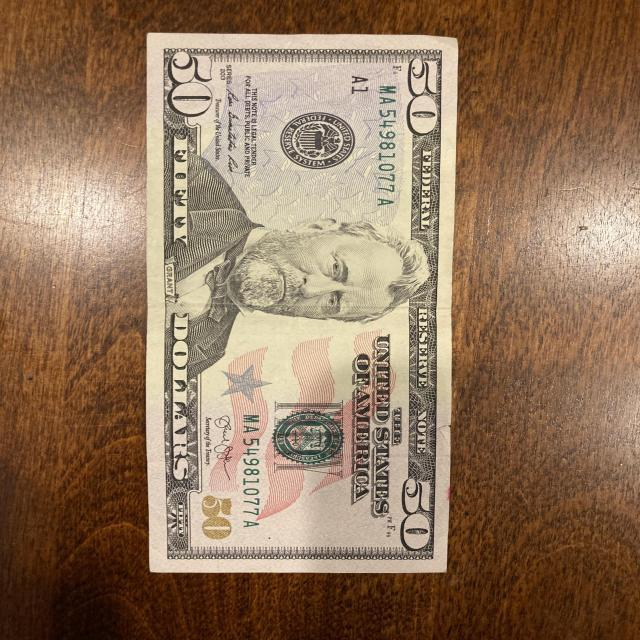fifty: (143, 31, 459, 576)
